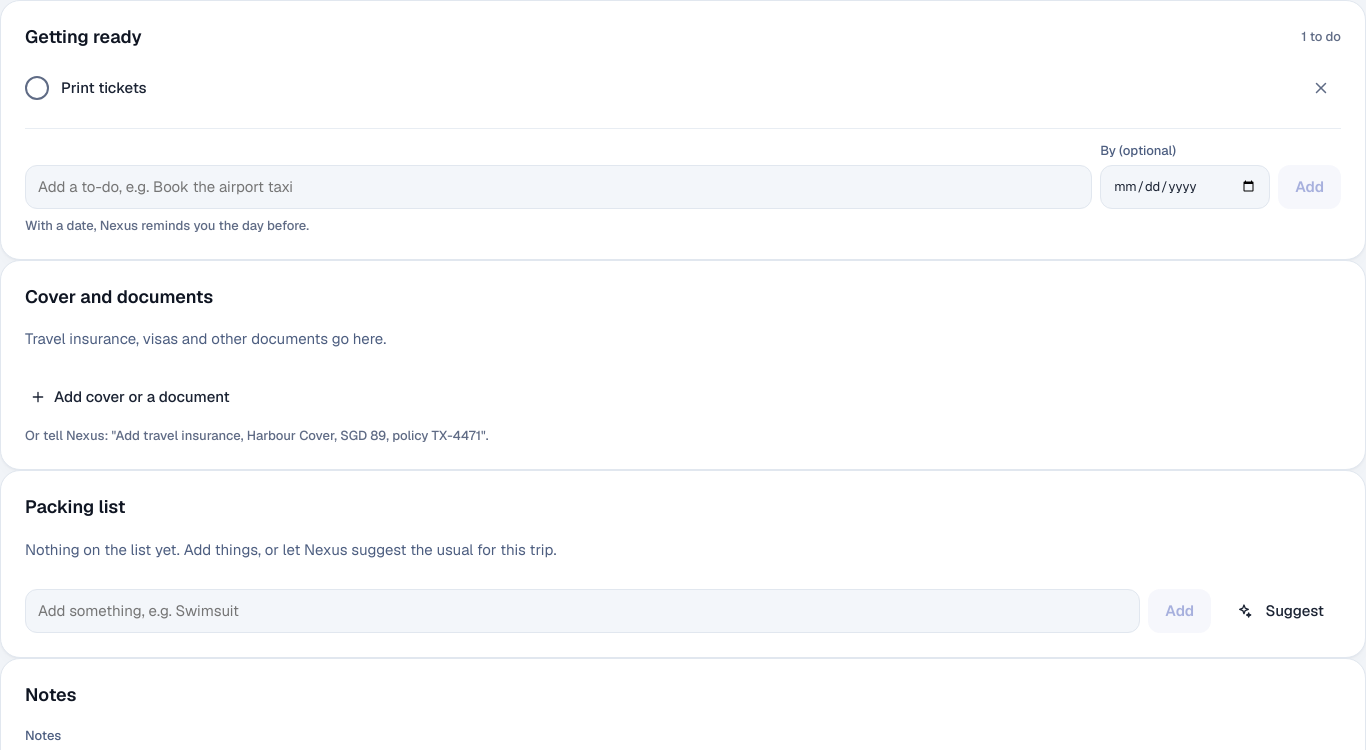
Test case: Getting ready › puts a to-do back when it can't be saved, and says so
This screenshot has width=1366, height=750.
Click the checkbox labelled "Print tickets": coordinates (37, 88) [25,76,49,100]
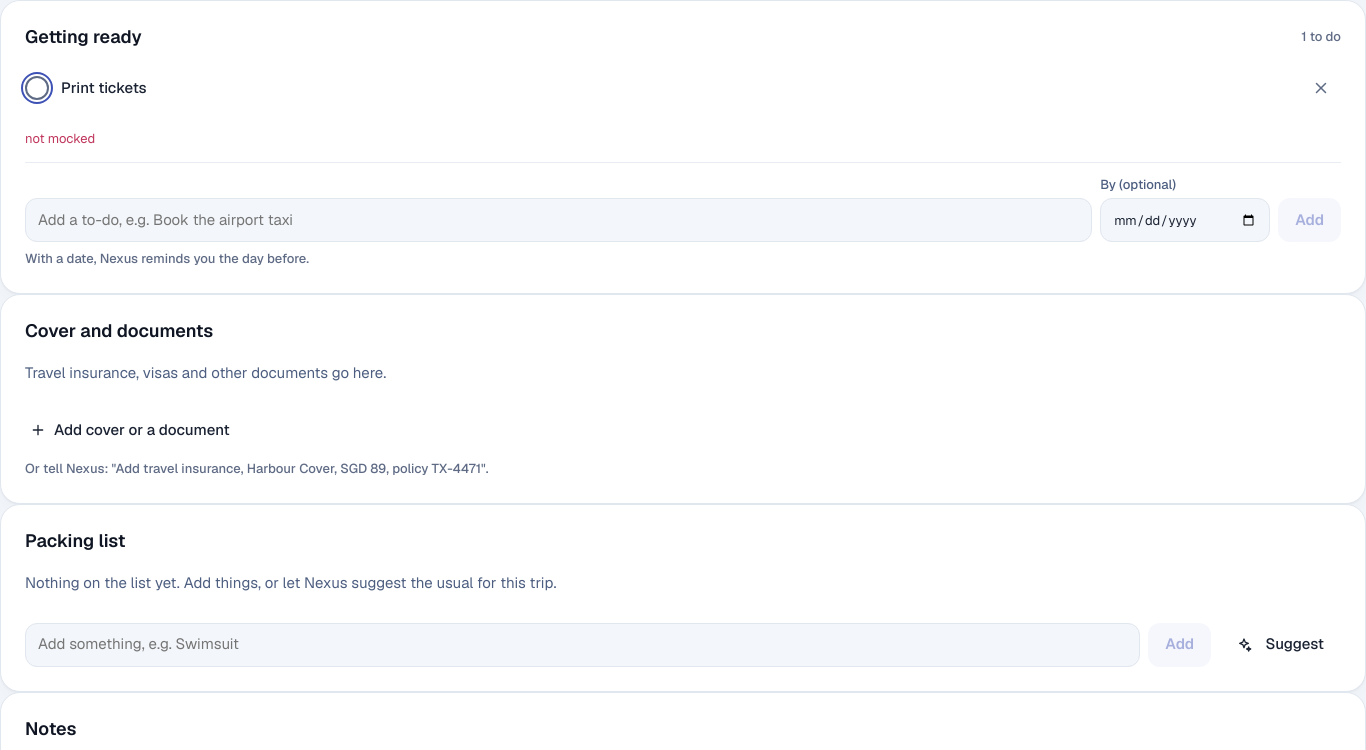
Now the message "not mocked" is shown, box [25,130,95,147]
